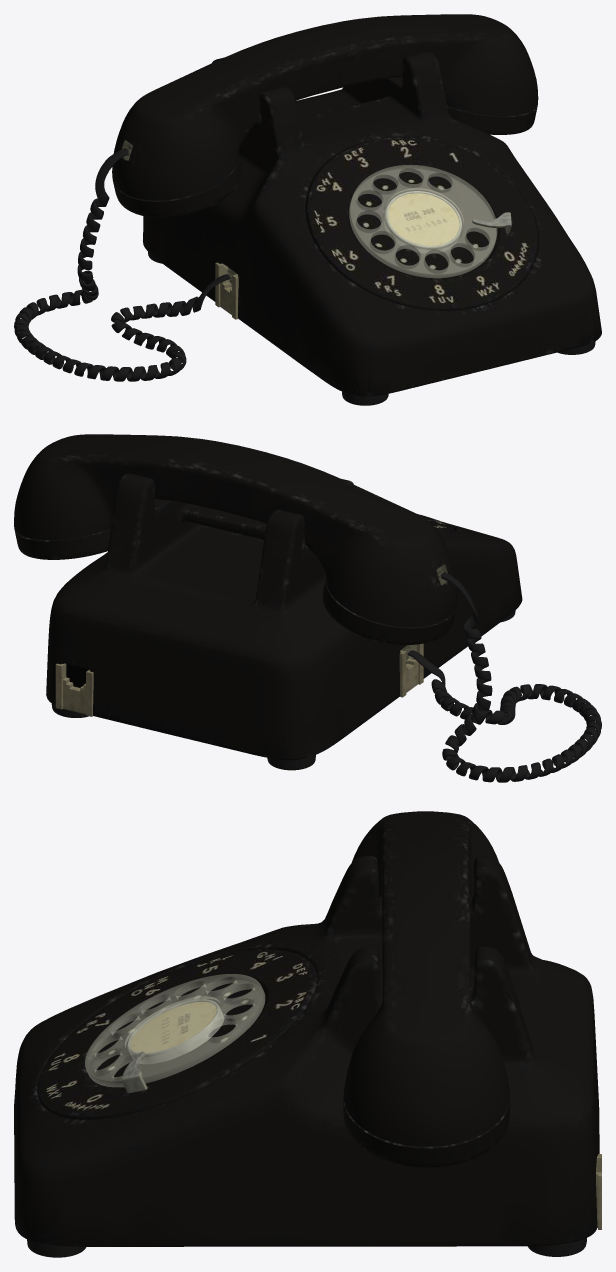
The model's file is phone.glb.
The picture shows the model from 3 angles, top to bottom: view 1: azimuth 30°, elevation 25°; view 2: azimuth 150°, elevation 25°; view 3: azimuth 270°, elevation 25°; orthographic projection. The views are drawn at different scales.
Parts seen in each view (by area): view 1: DND_Phone2, DND_Phone2Handset; view 2: DND_Phone2, DND_Phone2Handset; view 3: DND_Phone2, DND_Phone2Handset.
Boxes of the visible parts, left/top/right/bottom form: DND_Phone2: left=14, top=51, right=601, bottom=405; DND_Phone2Handset: left=112, top=14, right=538, bottom=217; DND_Phone2: left=46, top=473, right=601, bottom=782; DND_Phone2Handset: left=14, top=434, right=457, bottom=644; DND_Phone2: left=14, top=856, right=601, bottom=1257; DND_Phone2Handset: left=343, top=811, right=510, bottom=1167.
Bounding box in the file's own units: 0.607 × 0.2578 × 0.4616.
Materials: 2 (2 with a texture image).
